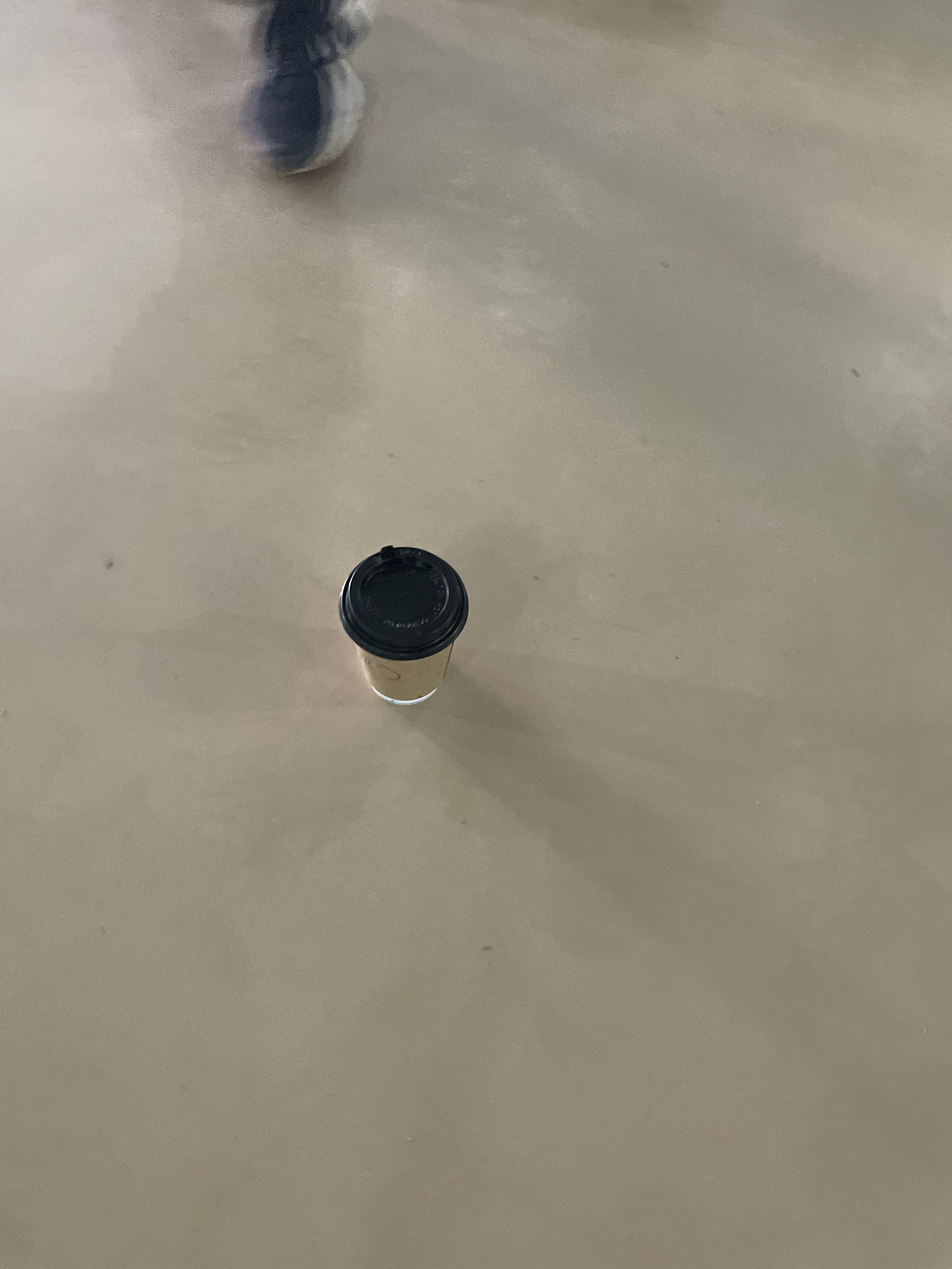cup: (340, 545, 469, 706)
